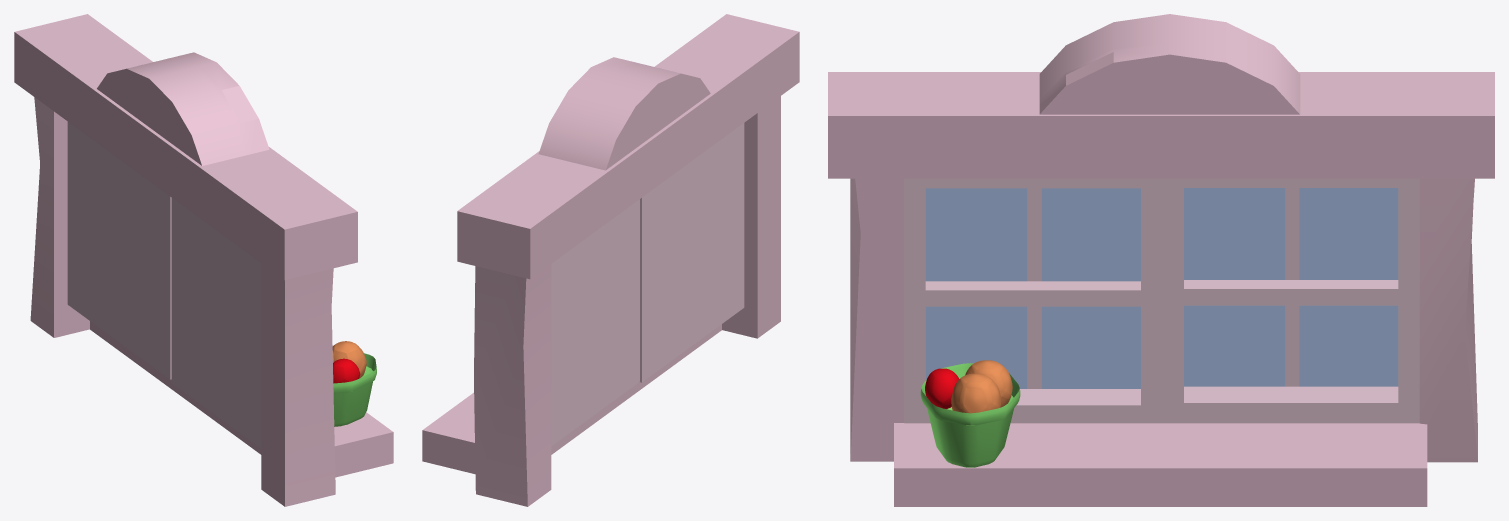
The model's file is window3.fbx.
The picture shows the model from 3 angles, left to right: view 1: azimuth 30°, elevation 25°; view 2: azimuth 150°, elevation 25°; view 3: azimuth 270°, elevation 25°; orthographic projection. The views are drawn at different scales.
Visible parts, largest first — view 1: upper frame, windowright, windowleft, side left frame, window top arc, side right frame, window lower panel, fruit basket, fruit 3, fruit 2; view 2: upper frame, windowleft, side right frame, windowright, window top arc, side left frame, window lower panel; view 3: upper frame, window lower panel, windowright, window top arc, windowleft, left.001, right, right.001, left, side right frame, side left frame, window horizontal split left (+5 smaller).
Boxes of the visible parts, x1,y1,x2,y2 form: upper frame: (14,14,357,279); windowright: (67,122,171,379); windowleft: (171,198,261,448); side left frame: (261,263,335,506); window top arc: (97,52,269,165); side right frame: (30,97,89,337); window lower panel: (90,321,393,477); fruit basket: (333,353,376,426); fruit 3: (332,341,366,378); fruit 2: (333,358,360,383); upper frame: (457,14,799,279); windowleft: (640,123,744,382); side right frame: (474,264,551,506); windowright: (551,199,639,446); window top arc: (538,57,710,170); side left frame: (722,96,780,338); window lower panel: (422,324,721,474); upper frame: (828,72,1494,178); window lower panel: (894,423,1427,506); windowright: (1162,178,1419,423); window top arc: (1039,14,1300,114); windowleft: (904,178,1162,423); left.001: (1184,188,1285,386); right: (1041,188,1140,388); right.001: (1299,188,1398,386); left: (925,188,1027,388); side right frame: (1419,178,1477,462); side left frame: (850,178,904,461); window horizontal split left: (925,281,1140,306).
Size of the model in its own units: 118 by 257 by 375.
